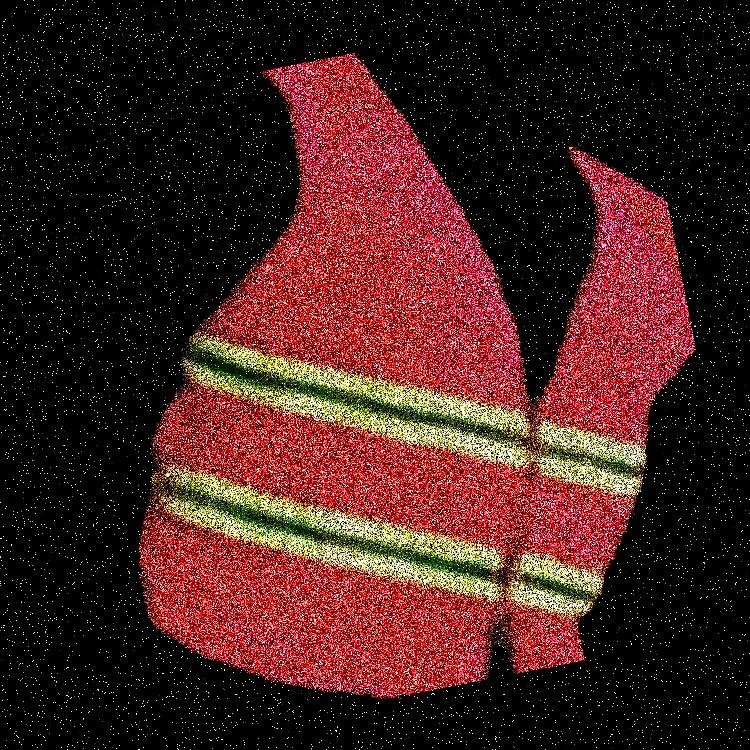Colete: (267, 0, 660, 749)
